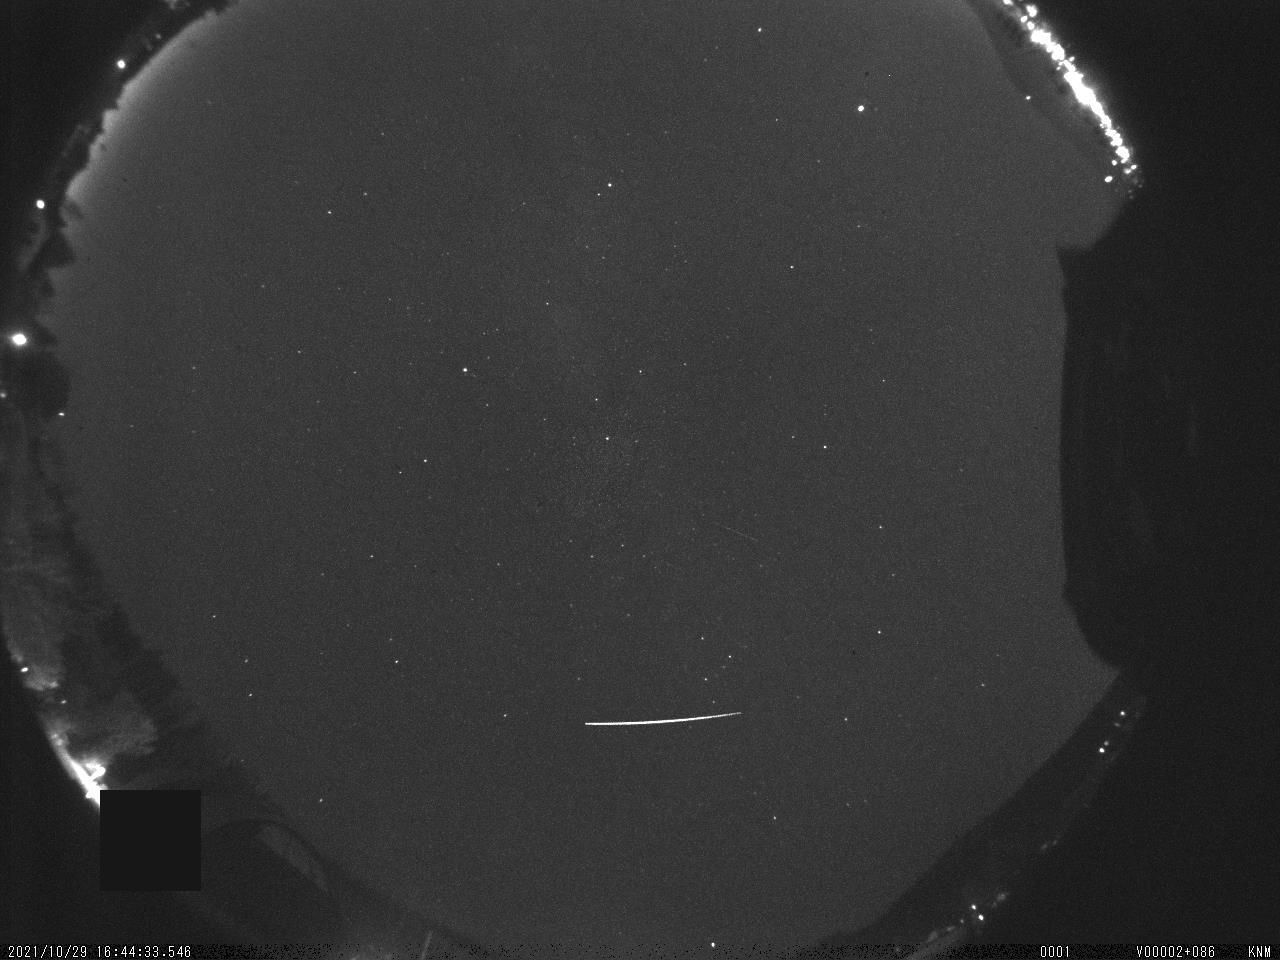meteor: (566, 696, 759, 744)
